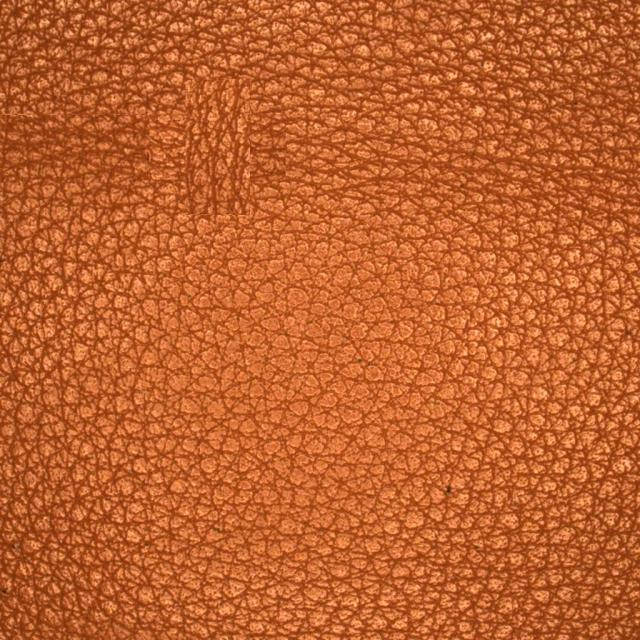Healed Injury: (27, 66, 390, 245)
